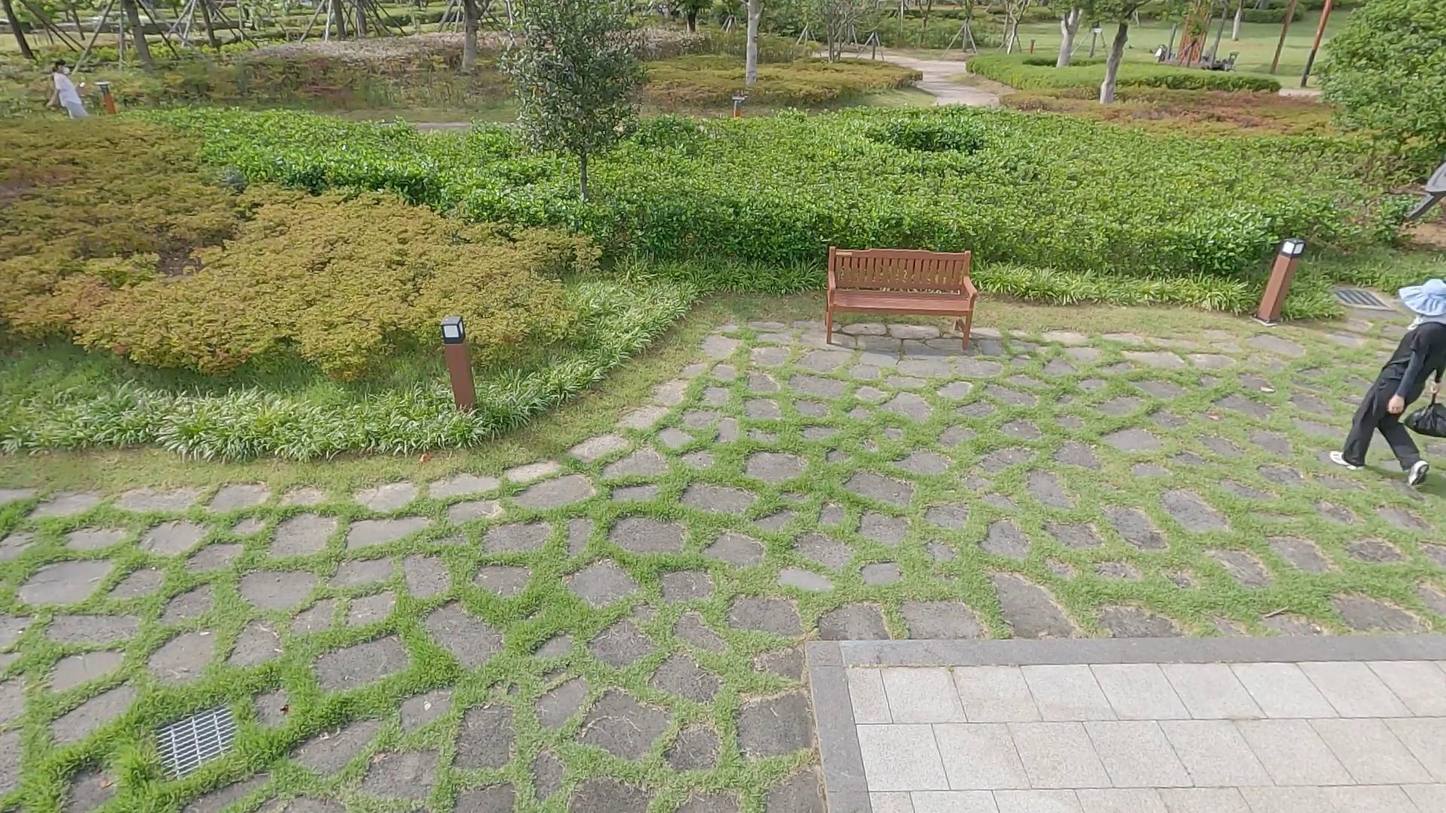person: (1330, 278, 1446, 486), (46, 57, 90, 118)
trash: (1403, 394, 1446, 440)
